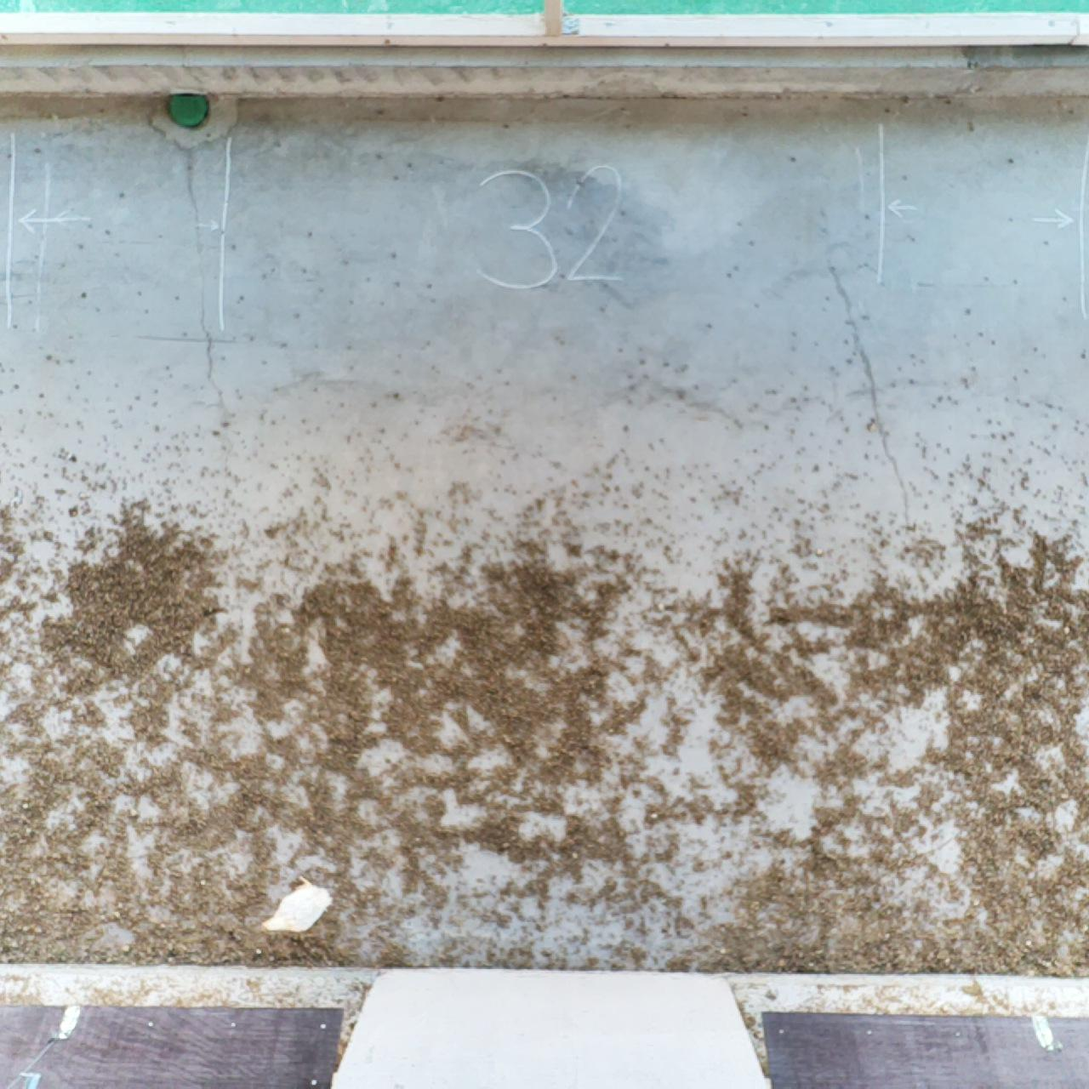chicken: (261, 871, 335, 937)
